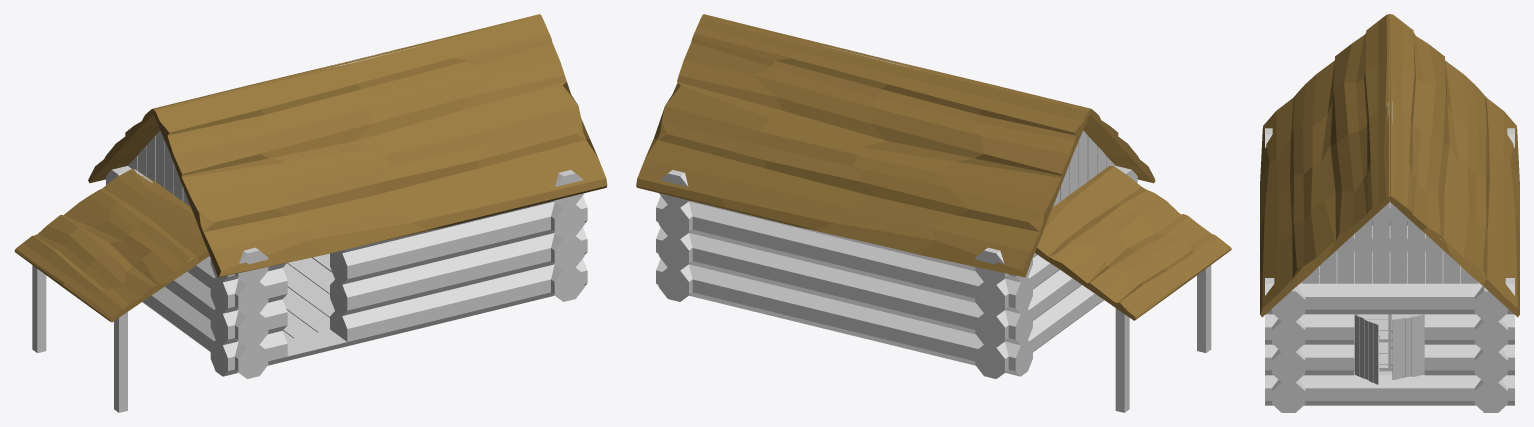
The model's file is House1Thatch.fbx.
3 renders of one model, left to right at view 1: azimuth 30°, elevation 25°; view 2: azimuth 150°, elevation 25°; view 3: azimuth 270°, elevation 25°, orthographic. The views are drawn at different scales.
Parts seen in each view (by area): view 1: Thatch_02.001, wood_town_house_01, Thatch_02_EX.001; view 2: Thatch_02.001, wood_town_house_01, Thatch_02_EX.001; view 3: Thatch_02.001, wood_town_house_01.
Boxes of the visible parts, box(x1,y1,x2,y2) form: Thatch_02.001: box(88, 14, 607, 277); wood_town_house_01: box(32, 46, 587, 412); Thatch_02_EX.001: box(14, 169, 209, 322); Thatch_02.001: box(636, 14, 1155, 277); wood_town_house_01: box(656, 46, 1211, 412); Thatch_02_EX.001: box(1035, 165, 1231, 320); Thatch_02.001: box(1260, 14, 1519, 317); wood_town_house_01: box(1265, 101, 1514, 412).
Size of the model in its own units: 801 by 403 by 386.
